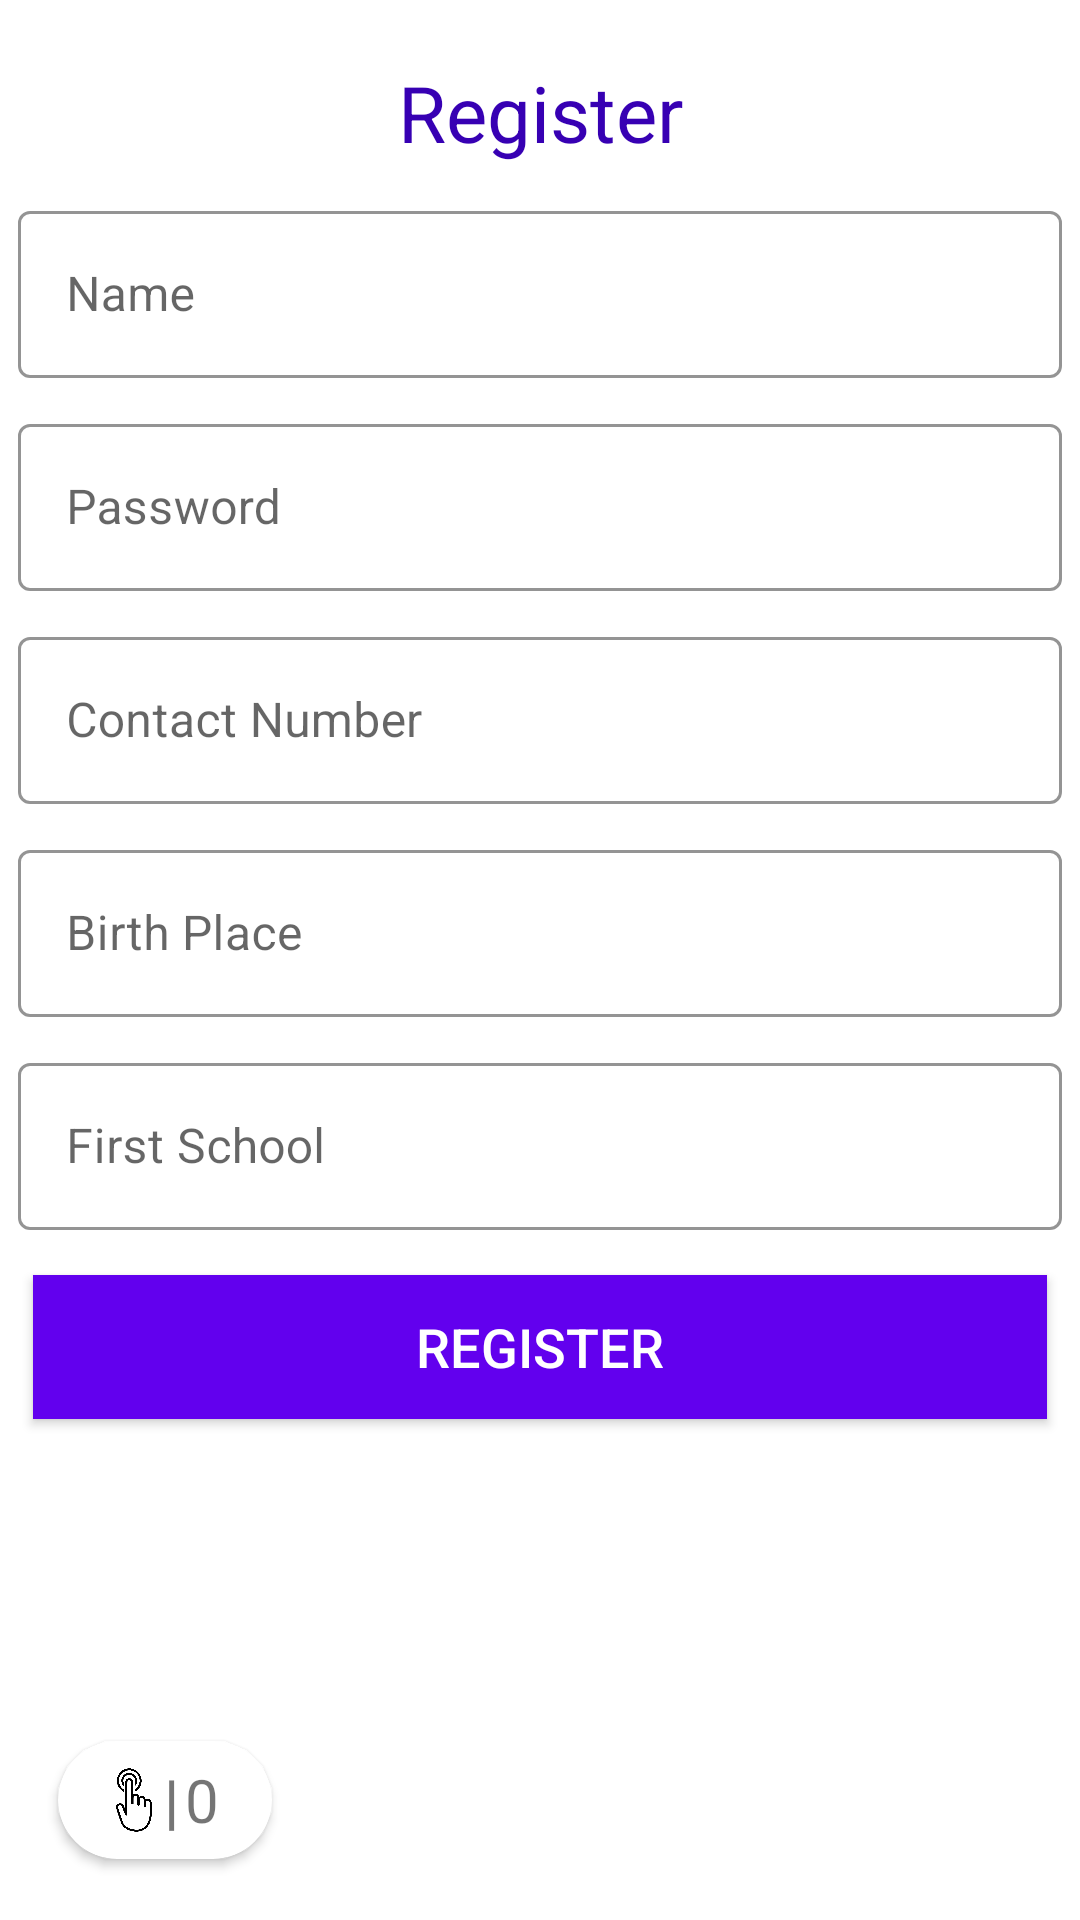

Named icons in this screenshot (1080w x 1920h) and their centers, [x,y]:
Number of Touch: [134,1800]
